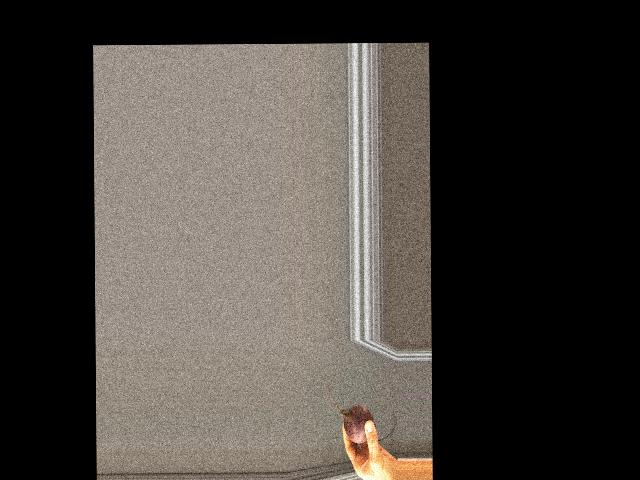beet: (328, 380, 397, 443)
